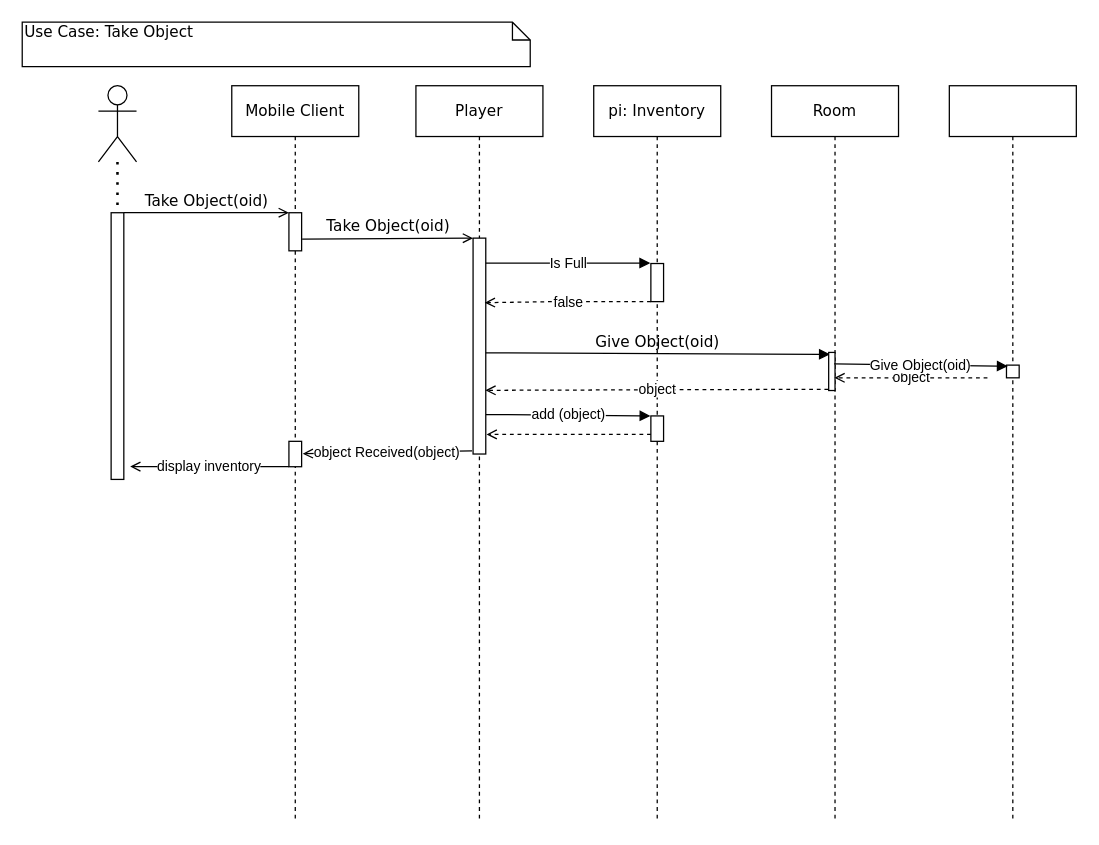
Some shapes in this 1099 by 845 pixel diagram are drawn without their labels. The box of each missing label's shape, as (x1, y1, x2, y2) in pixels:
Actor: (97, 84, 137, 162)
ri: Inventory: (948, 84, 1076, 822)
